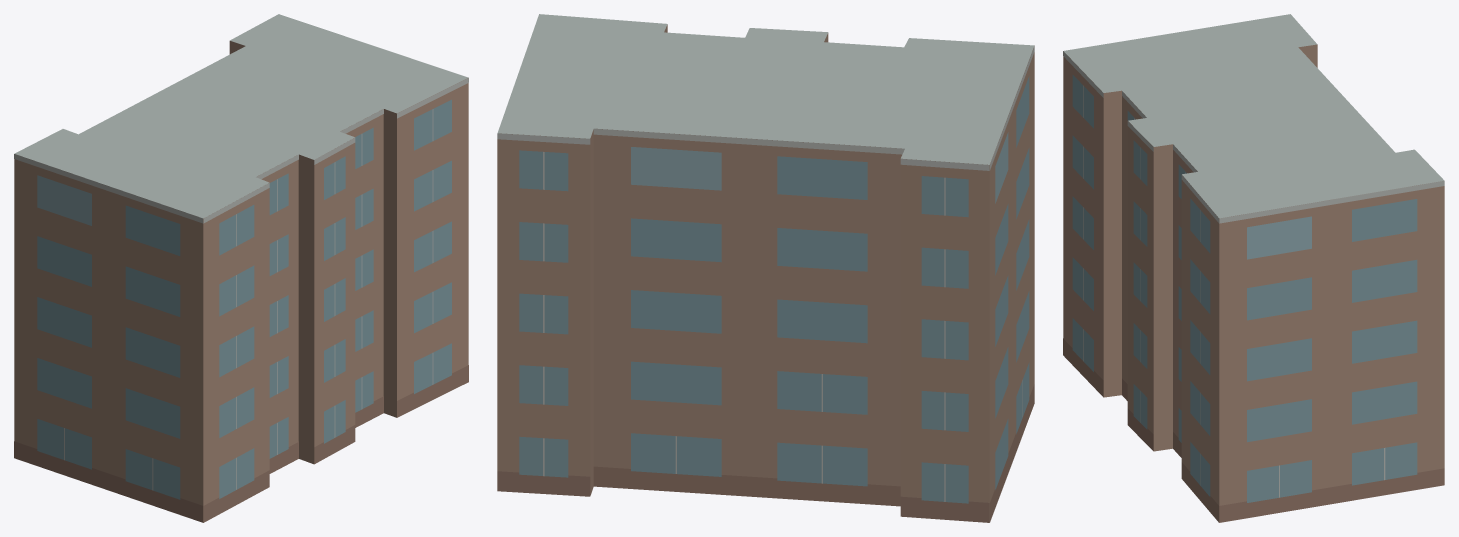
File: survey-upis-32580301.glb
3 renders of one model, left to right at view 1: azimuth 30°, elevation 25°; view 2: azimuth 150°, elevation 25°; view 3: azimuth 270°, elevation 25°, orthographic. The views are drawn at different scales.
Parts seen in each view (by area): view 1: survey-upis-32580301.tmp; view 2: survey-upis-32580301.tmp; view 3: survey-upis-32580301.tmp.
Boxes of the visible parts, <box> form: survey-upis-32580301.tmp: <box>14,14,468,522</box>; survey-upis-32580301.tmp: <box>497,14,1034,522</box>; survey-upis-32580301.tmp: <box>1063,14,1444,522</box>.
Bounding box in the file's own units: 20.75 × 14.4 × 16.36.
